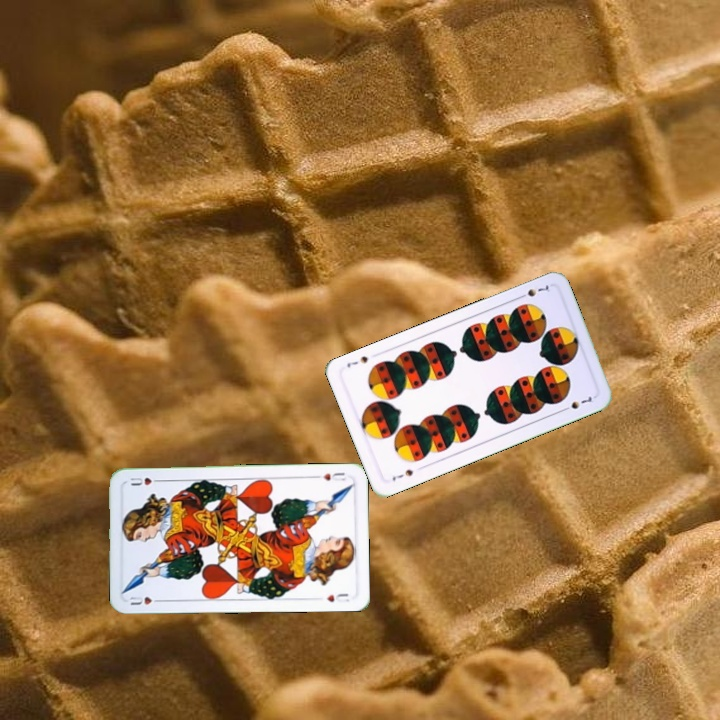HU: (311, 468, 348, 483), (126, 593, 165, 607)
S7: (514, 280, 553, 301), (388, 465, 416, 483)
